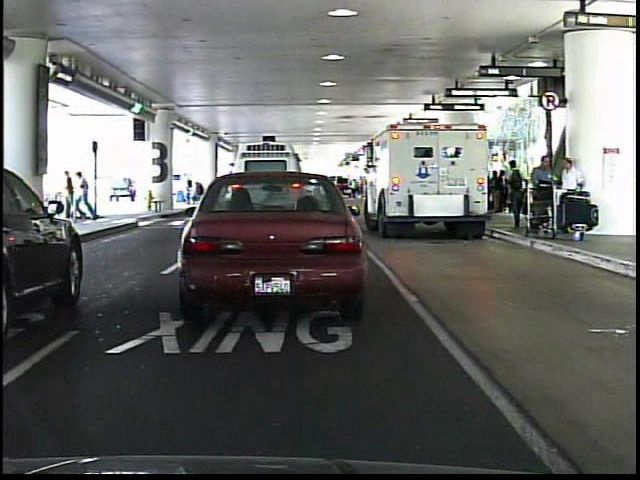person: (73, 167, 94, 222), (58, 168, 78, 224)
